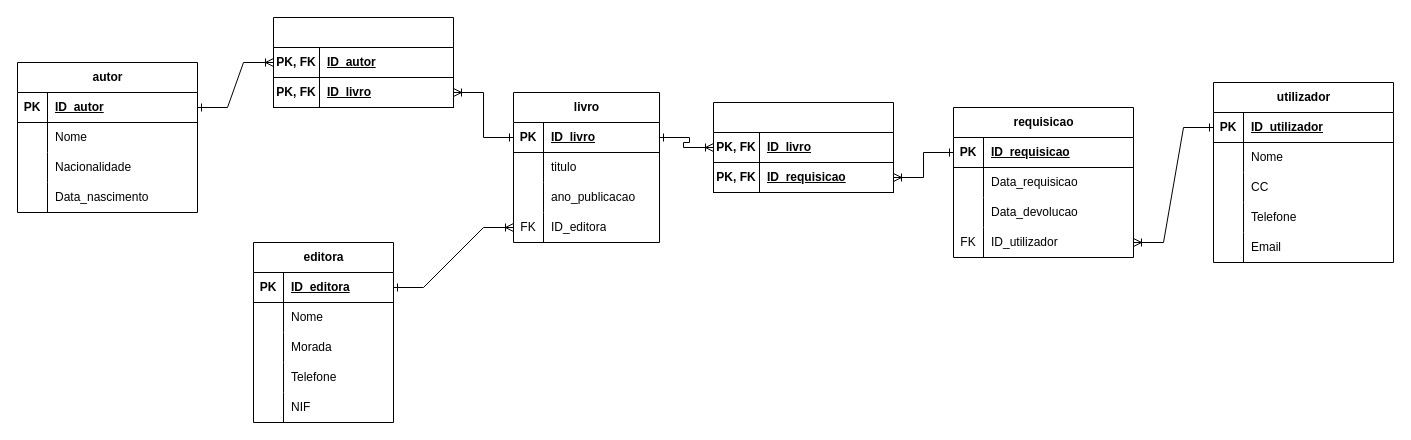
Some shapes in this 1411 by 440 pixel diagram are drawn without their labels. Here are the shapes that lost their labels. From the top down, the box of each, then its label:
(272, 16, 454, 108): autor_livro
(712, 102, 894, 192): livro_requisicao
